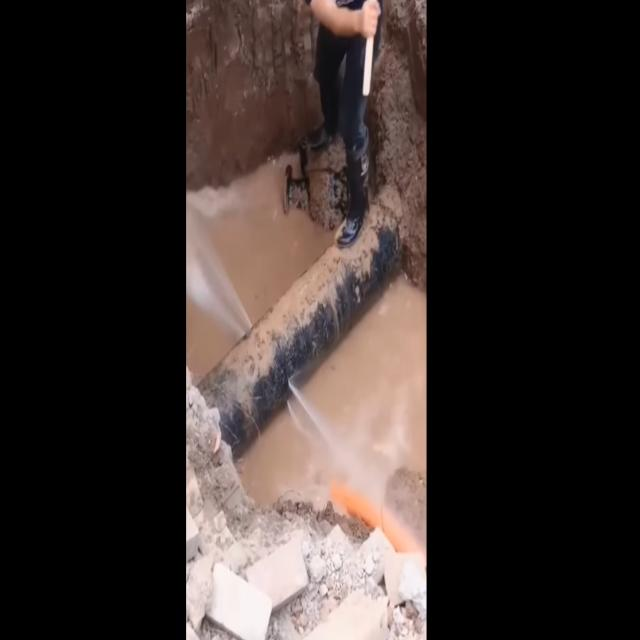leak: (186, 202, 251, 340), (288, 380, 348, 466)
